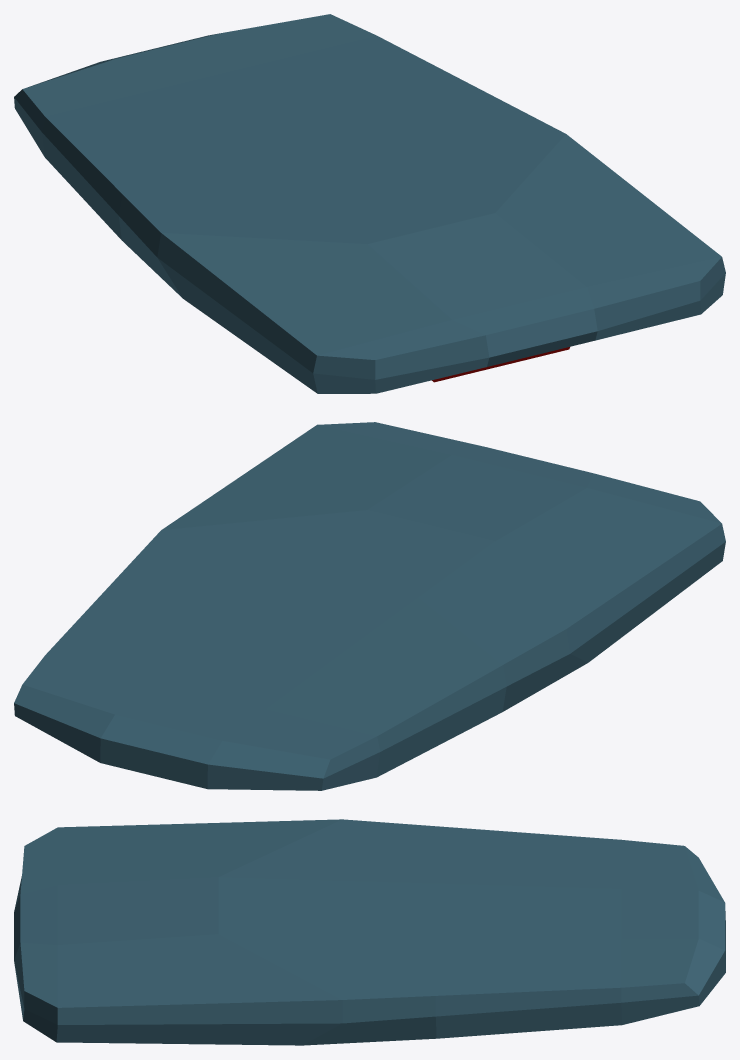
File: keycardNEW.fbx
3 renders of one model, top to bottom at view 1: azimuth 30°, elevation 25°; view 2: azimuth 150°, elevation 25°; view 3: azimuth 270°, elevation 25°, orthographic. The views are drawn at different scales.
Visible parts, largest first — view 1: Cube; view 2: Cube; view 3: Cube.
Boxes of the visible parts, x1,y1,x2,y2 form: Cube: (14, 14, 725, 393); Cube: (14, 422, 725, 790); Cube: (14, 819, 725, 1045).
Size of the model in its own units: 0.7544 by 0.1502 by 1.23.
